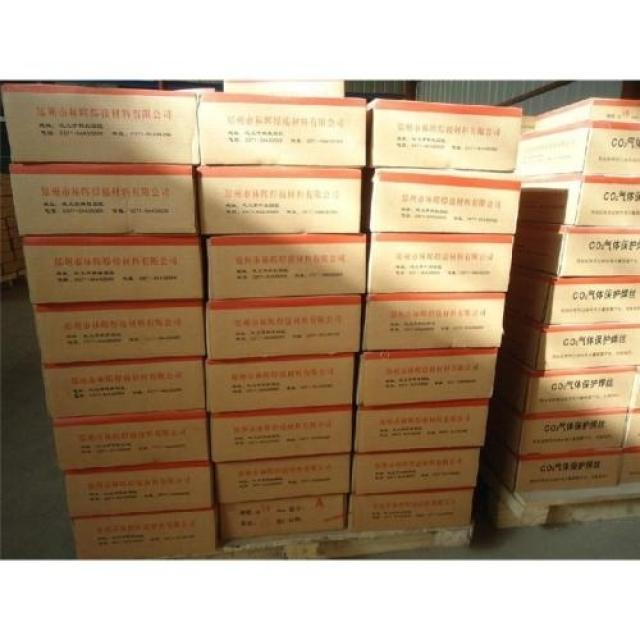Carton: (349, 101, 639, 529), (0, 88, 366, 411), (20, 234, 205, 361), (214, 453, 349, 538), (42, 358, 202, 416), (51, 415, 207, 468), (65, 463, 210, 518), (209, 407, 352, 458), (73, 511, 215, 559)
